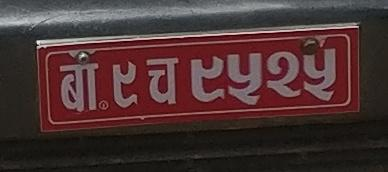2: (265, 48, 304, 101)
5: (302, 45, 342, 105), (226, 49, 265, 108)
9: (186, 53, 227, 107), (109, 60, 142, 112)
ba: (56, 60, 108, 114)
cha: (143, 56, 182, 110)
